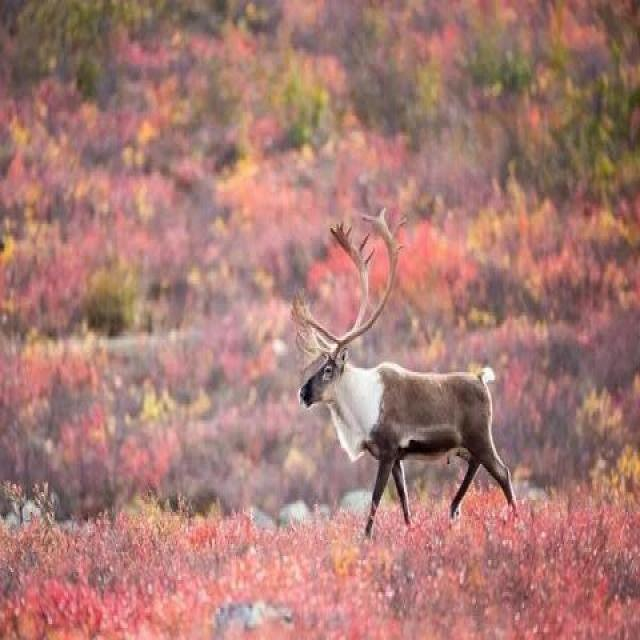deer: (262, 223, 564, 588)
